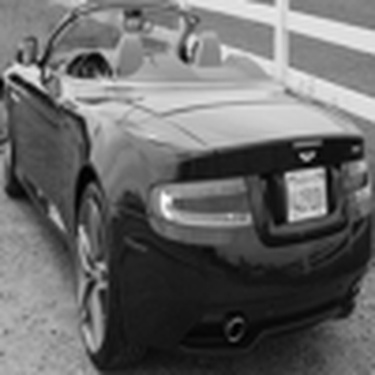car: (4, 3, 369, 372)
